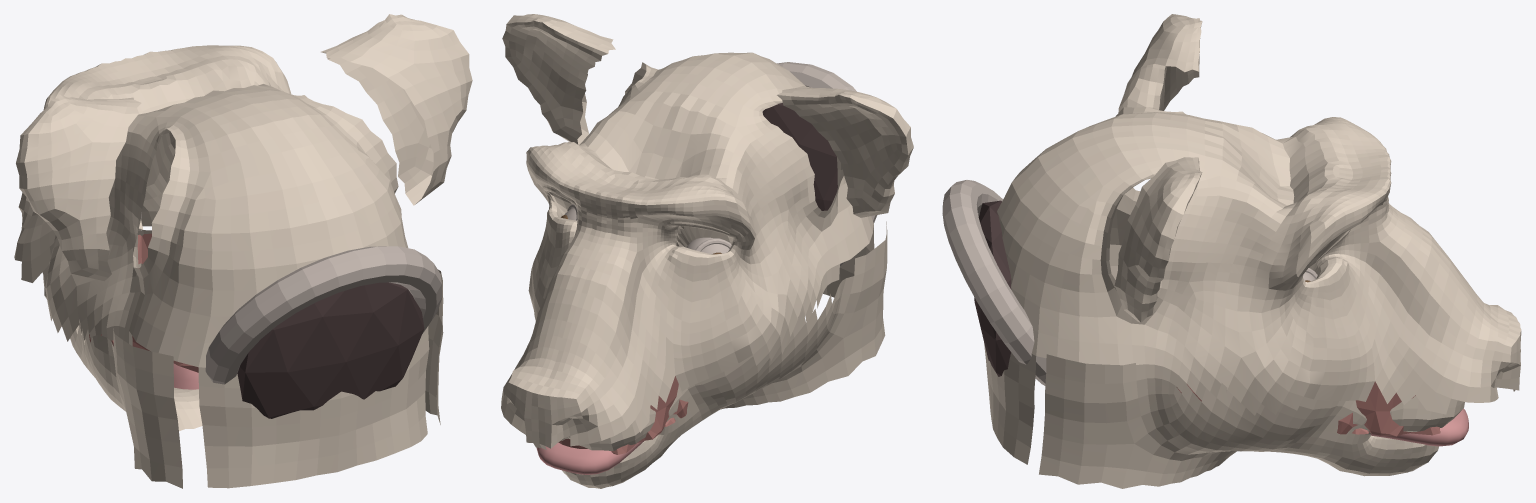
File: sen_head.glb
3 renders of one model, left to right at view 1: azimuth 30°, elevation 25°; view 2: azimuth 150°, elevation 25°; view 3: azimuth 270°, elevation 25°, orthographic. The views are drawn at different scales.
Parts seen in each view (by area): view 1: TissueHead, NeckSocketDisc, Ear_L, Ear_R, Jaw, NeckSocket, TeethUpper, Tongue; view 2: TissueHead, Jaw, Ear_R, Ear_L, NeckSocketDisc, Tongue, TeethUpper, NeckSocket; view 3: TissueHead, Jaw, Ear_L, NeckSocket, Ear_R, NeckSocketDisc, TeethUpper, Tongue.
Boxes of the visible parts, left/top/right/bottom form: TissueHead: left=14, top=45, right=429, bottom=488; NeckSocketDisc: left=237, top=282, right=424, bottom=418; Ear_L: left=321, top=14, right=472, bottom=205; Ear_R: left=16, top=94, right=141, bottom=281; Jaw: left=43, top=230, right=443, bottom=488; NeckSocket: left=205, top=246, right=442, bottom=384; TeethUpper: left=61, top=233, right=198, bottom=372; Tongue: left=173, top=363, right=198, bottom=389; TissueHead: left=501, top=52, right=874, bottom=449; Jaw: left=561, top=221, right=887, bottom=488; Ear_R: left=777, top=86, right=913, bottom=217; Ear_L: left=502, top=14, right=615, bottom=144; NeckSocketDisc: left=762, top=103, right=837, bottom=210; Tongue: left=536, top=441, right=643, bottom=474; TeethUpper: left=558, top=376, right=688, bottom=454; NeckSocket: left=777, top=62, right=877, bottom=265; TissueHead: left=984, top=107, right=1521, bottom=464; Jaw: left=1039, top=244, right=1464, bottom=488; Ear_L: left=1114, top=157, right=1202, bottom=322; NeckSocket: left=942, top=180, right=1046, bottom=385; Ear_R: left=1118, top=14, right=1202, bottom=112; NeckSocketDisc: left=974, top=200, right=1011, bottom=376; TeethUpper: left=1176, top=381, right=1440, bottom=436; Tongue: left=1370, top=408, right=1468, bottom=446.
Bounding box in the file's own units: 0.9336 × 0.7942 × 1.11.
